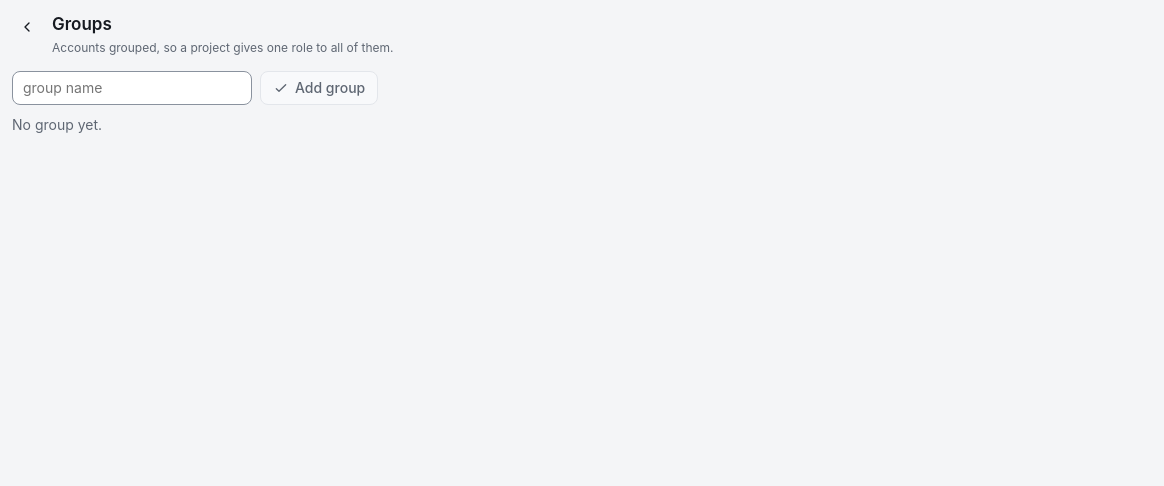
GroupsView › adds a group and an account to it
Type "gateway-team" into the field named "new group's name". click: (132, 88)
box: [12,71,252,105]
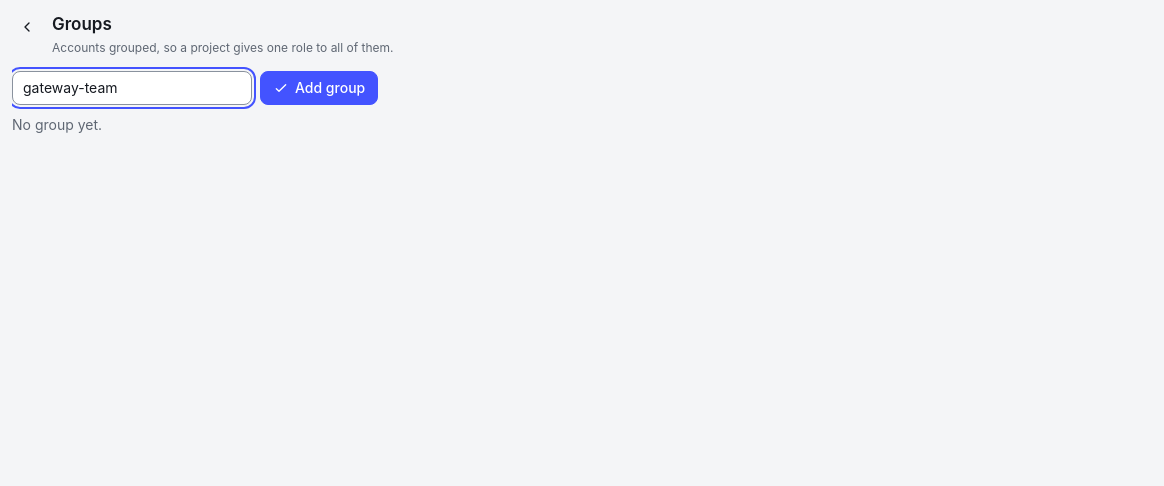
Click the button "Add group". click: (319, 88)
box: [260,71,378,105]
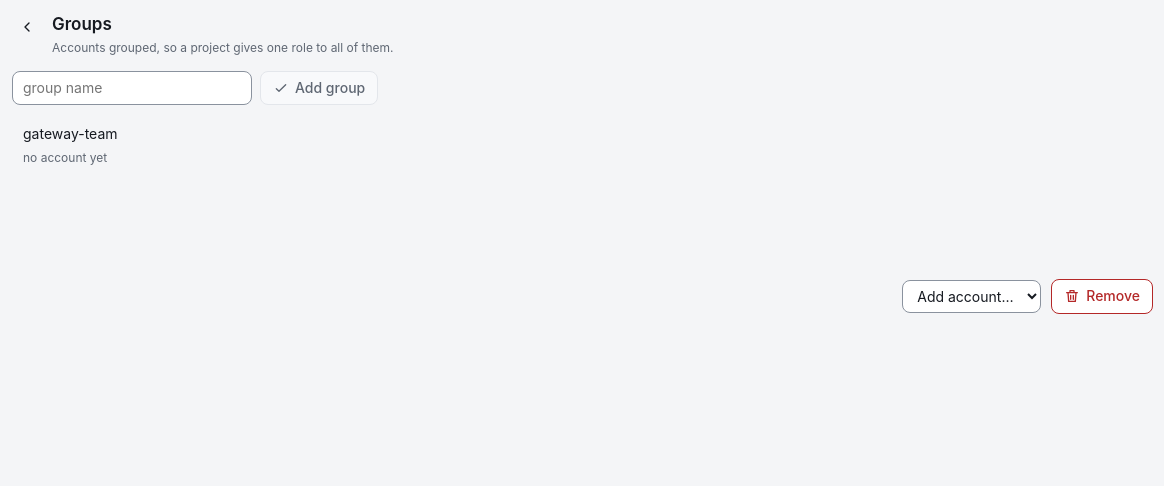
Select "Jonas" in the dropdown named "add an account to gateway-team". click: (972, 296)
box: [902,280,1041,313]
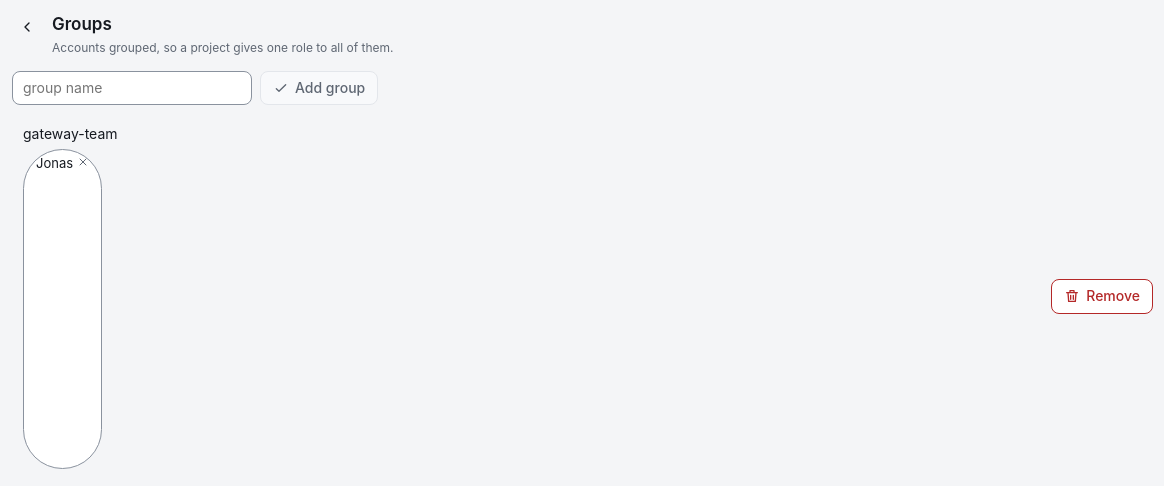
Result: the button named "take Jonas out of gateway-team" is shown at [73,156,89,170]
